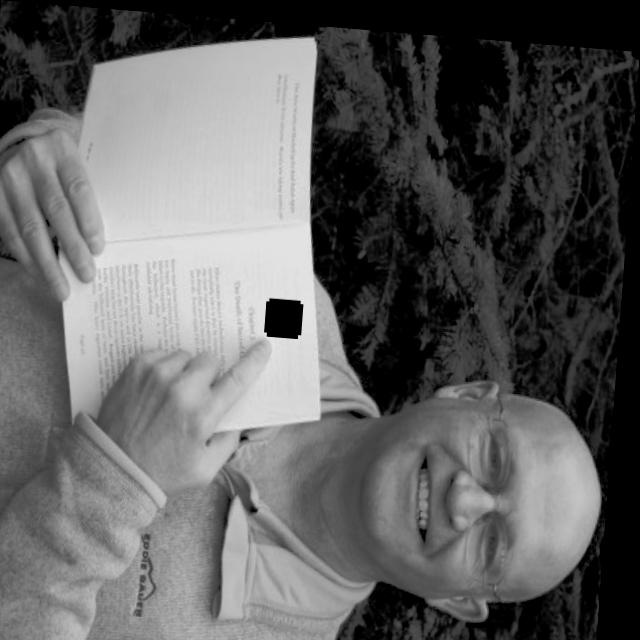qr_code: (269, 295, 306, 332)
